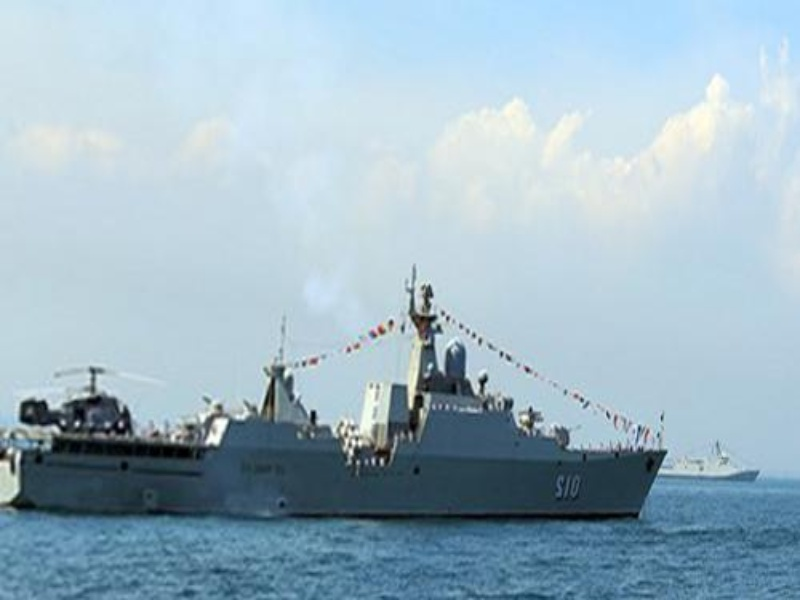cruise: (49, 318, 644, 515), (660, 429, 761, 484)
